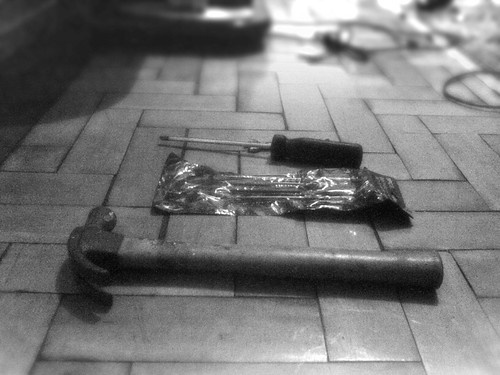hammer: (65, 204, 446, 311)
